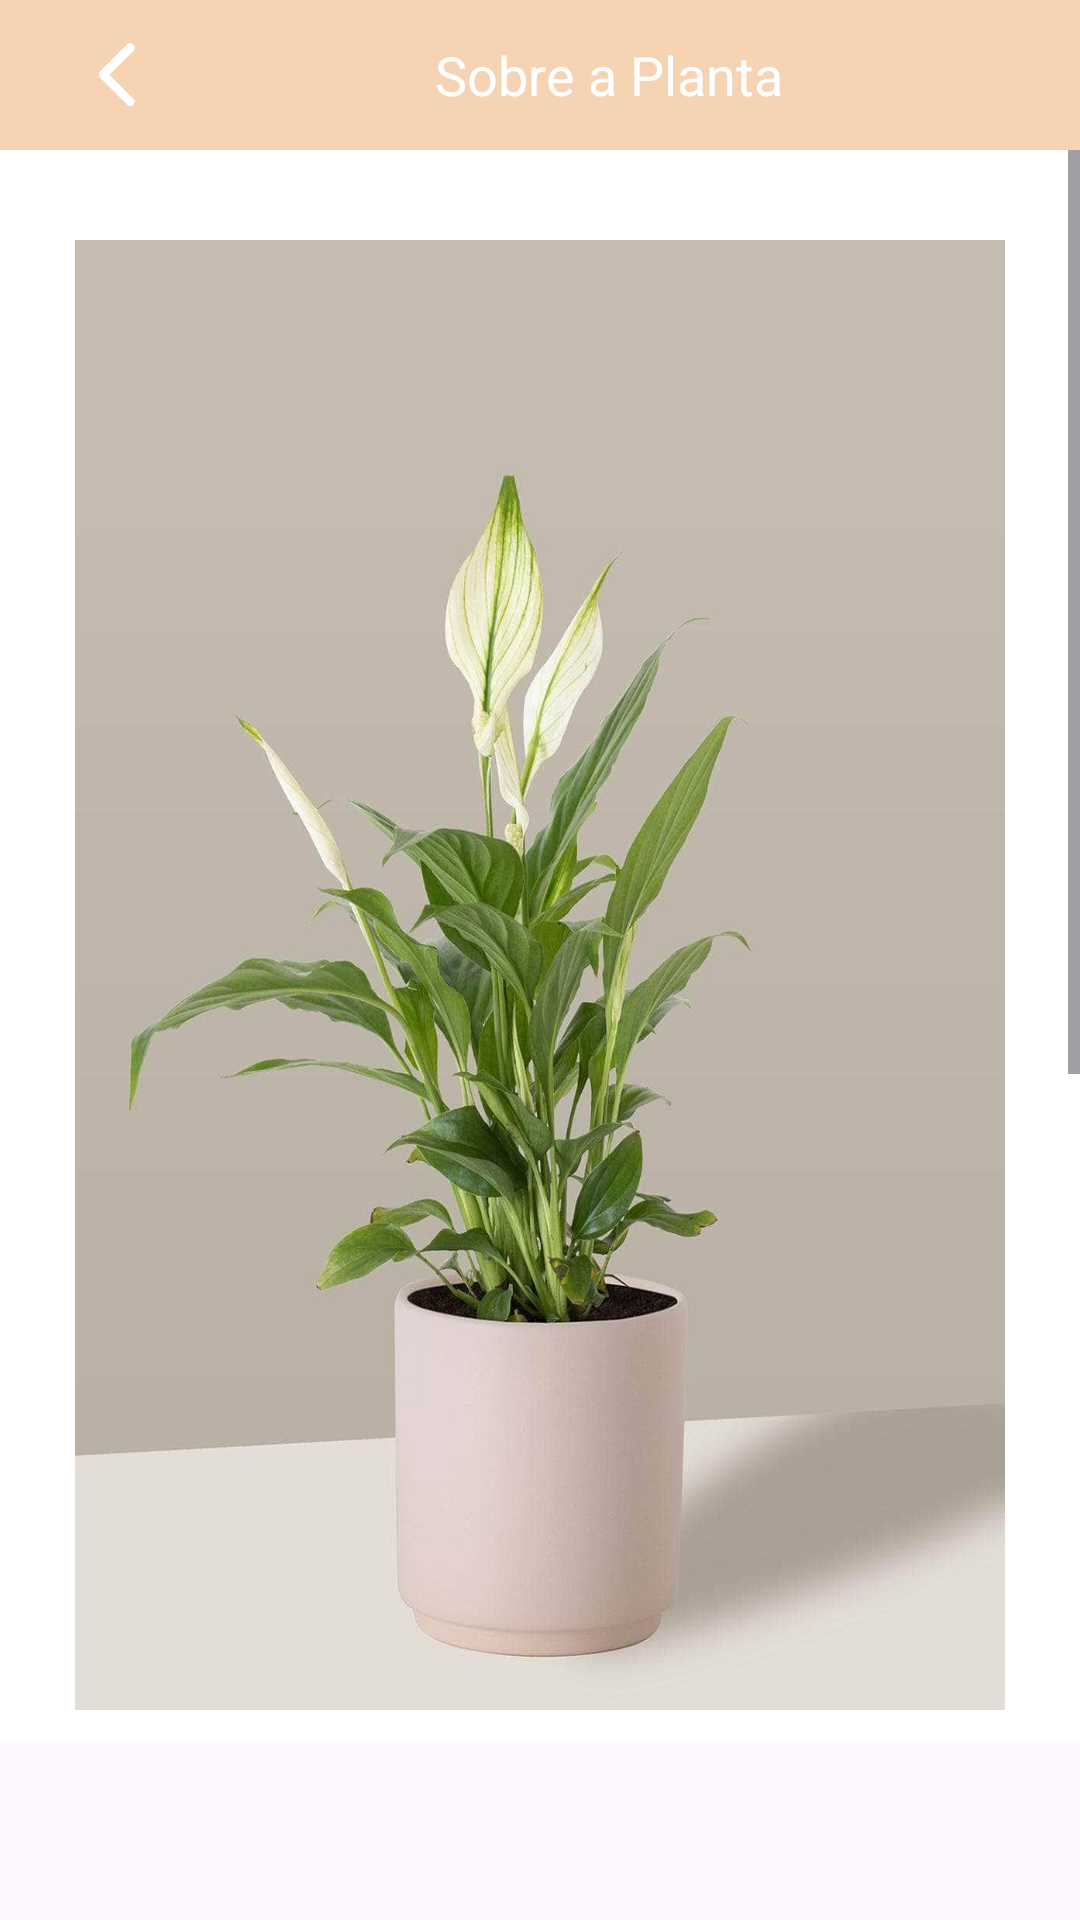

Named icons in this screenshot (1080 × 1920) and their bounding boxes, [x1=x1, y1=y1, x2=x2, y2=y2]:
seta voltar: [x1=99, y1=43, x2=135, y2=106]
